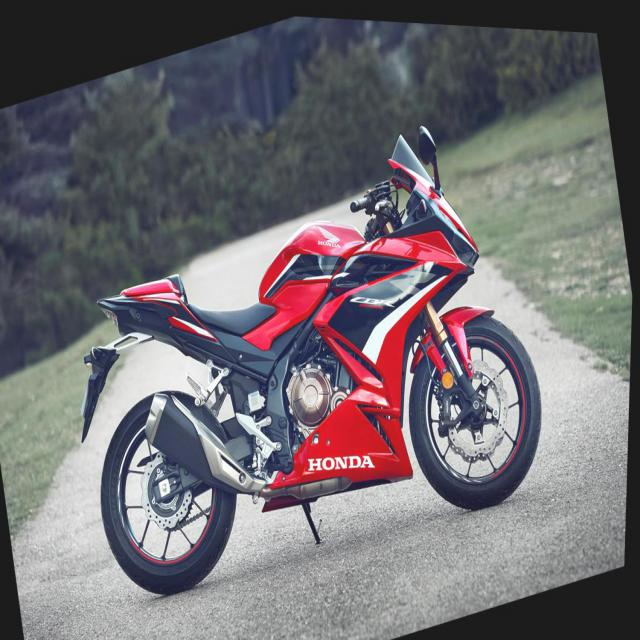CBR500R: (46, 73, 566, 639)
